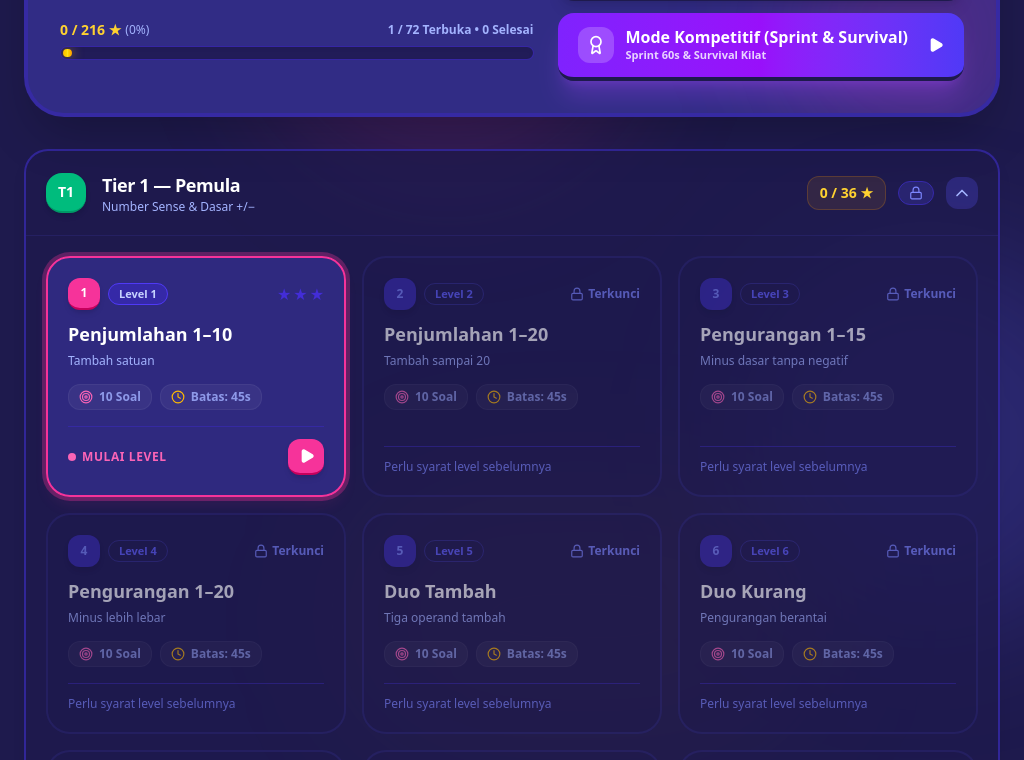
it: Lazy Screen & Modal Loading Integration (Task 5) › dynamically loads and renders PlayScreen when a level is clicked
(page scrolled)
Click the button with id "level-card-1" at (84, 294), box [46, 256, 346, 497]
(page scrolled)
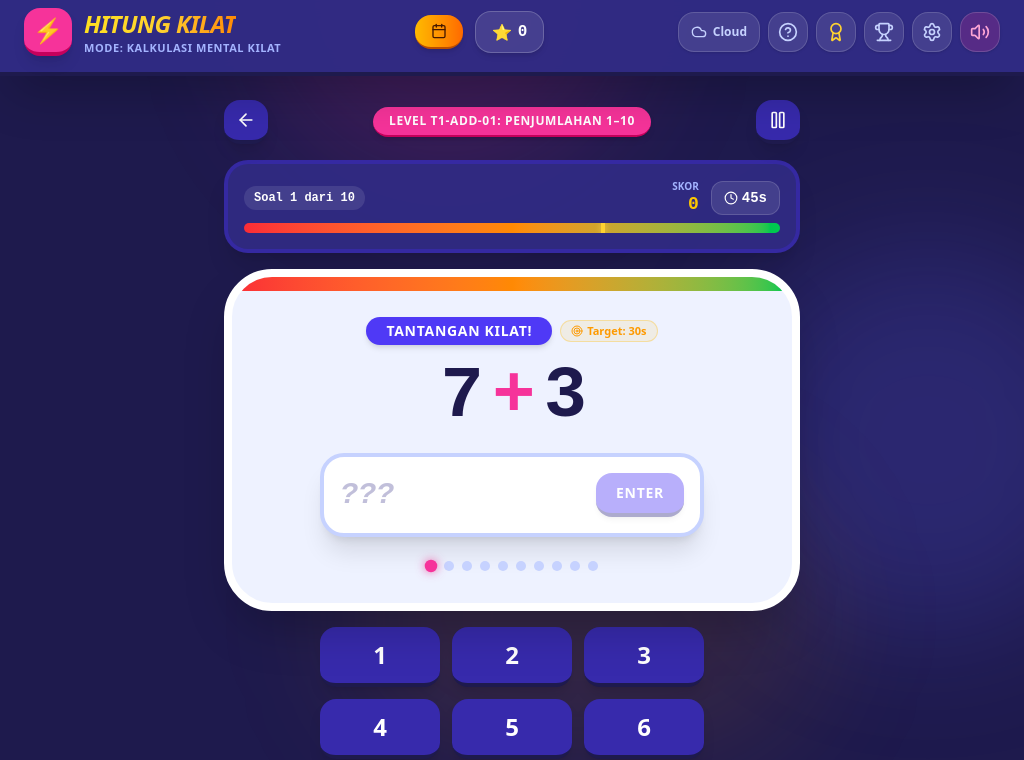
Expected: the text "Level T1-ADD-01: Penjumlahan 1–10" is shown, [373, 107, 651, 137]
